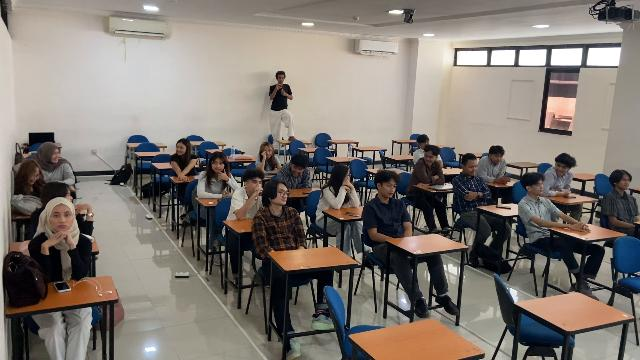senang: (614, 171, 634, 192), (52, 210, 72, 229), (276, 184, 289, 206), (383, 180, 395, 197), (211, 159, 224, 172), (554, 163, 567, 176), (532, 182, 544, 195), (291, 164, 303, 176), (423, 152, 434, 165), (466, 162, 477, 175), (176, 144, 186, 155), (492, 153, 503, 163), (53, 150, 60, 163)
